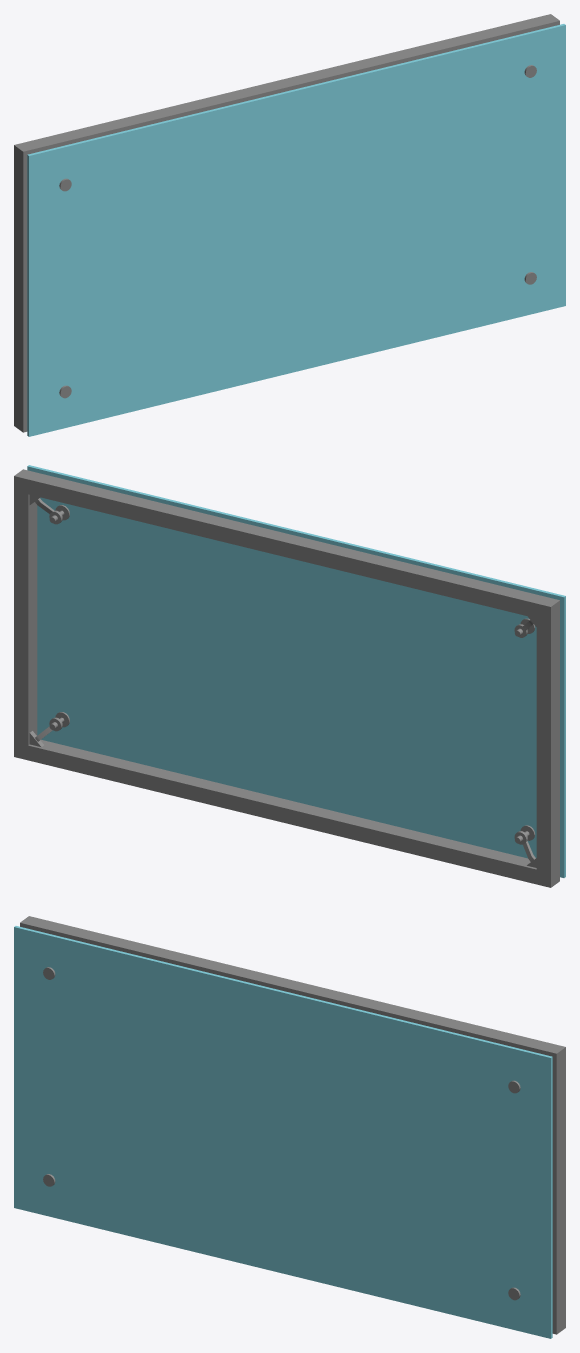
The model's file is CP_GlassWall_03a_snaps019.fbx.
3 views of the same model, one above another, from view 1: azimuth 30°, elevation 25°; view 2: azimuth 150°, elevation 25°; view 3: azimuth 330°, elevation 25° (orthographic).
Visible parts, largest first — view 1: CP_GlassWall_03a_snaps019_LOD0; view 2: CP_GlassWall_03a_snaps019_LOD0; view 3: CP_GlassWall_03a_snaps019_LOD0.
Boxes of the visible parts, <box> form: CP_GlassWall_03a_snaps019_LOD0: <box>14,14,565,436</box>; CP_GlassWall_03a_snaps019_LOD0: <box>14,465,565,887</box>; CP_GlassWall_03a_snaps019_LOD0: <box>14,916,565,1338</box>.
Size of what is drawn, in the model's own units: 400 by 200 by 21.01.
